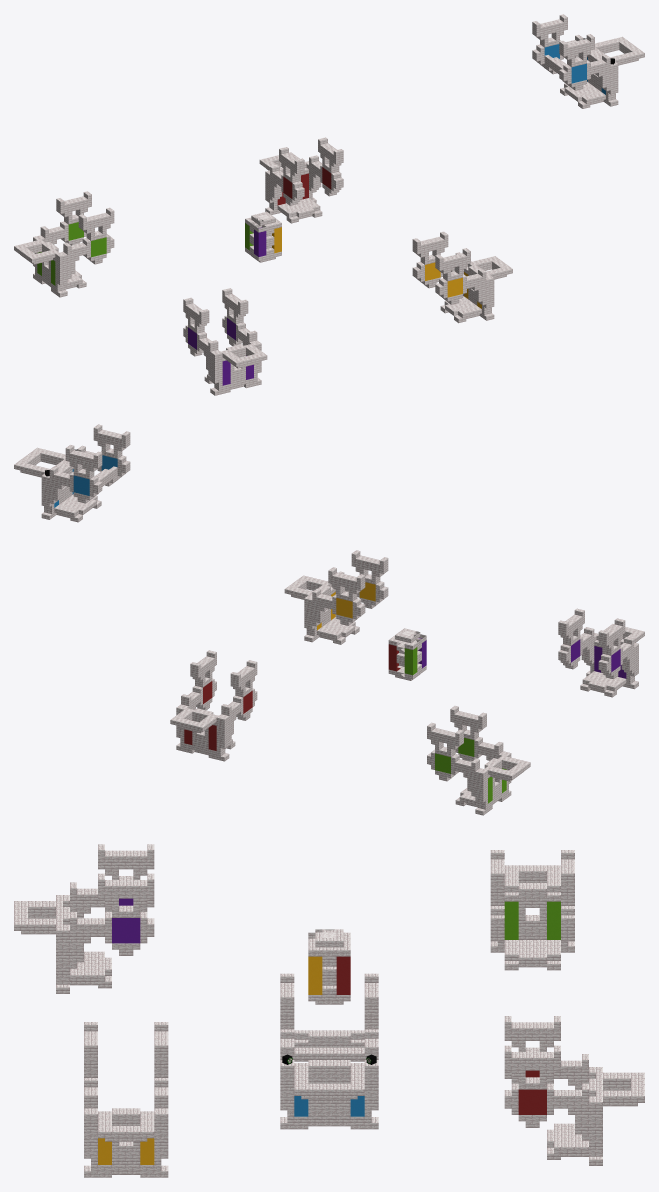
Rendered from minecraft.obj.
3 renders of one model, top to bottom at view 1: azimuth 30°, elevation 25°; view 2: azimuth 150°, elevation 25°; view 3: azimuth 270°, elevation 25°, orthographic. The views are drawn at different scales.
Bounding box in the file's own units: 70 × 24 × 45.
